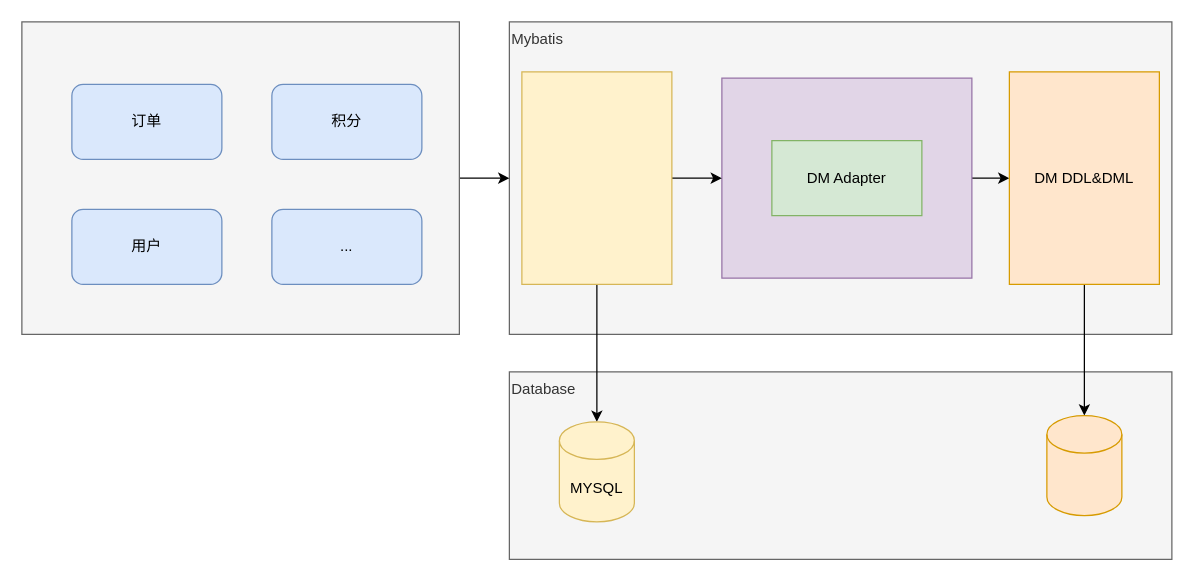
This 1194x581 diagram has some shape labels left out. The shapes that lost their labels are listed below. From the top down, each one's box as (x1, y1, x2, y2) in pixels, then its label:
(21, 21, 459, 334): service
(521, 71, 672, 284): MySql DDL&DML
(721, 77, 972, 278): plugin
(1046, 414, 1122, 516): DM
